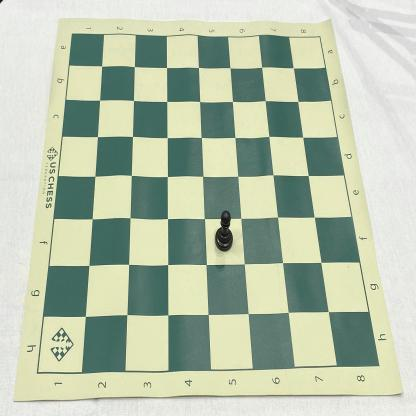black-pawn: (214, 208, 234, 253)
